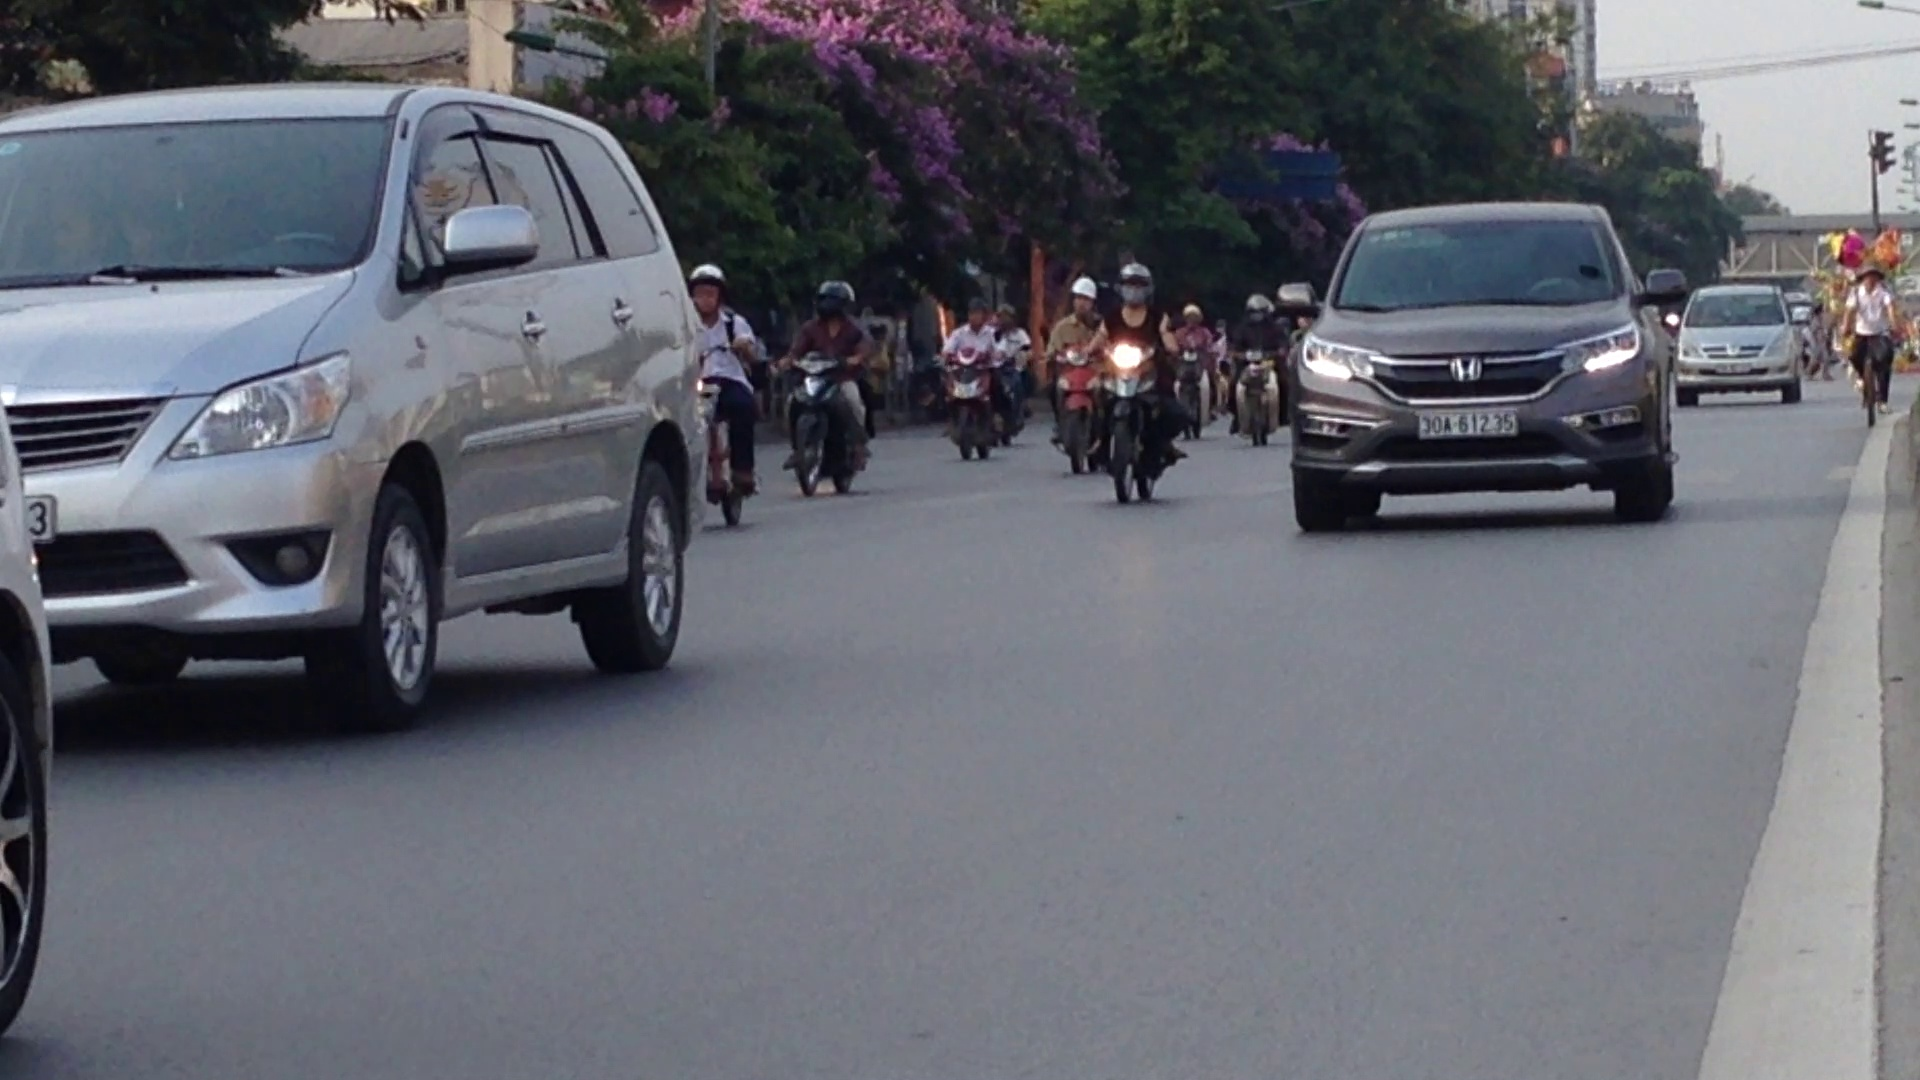person: (1408, 404, 1522, 441)
